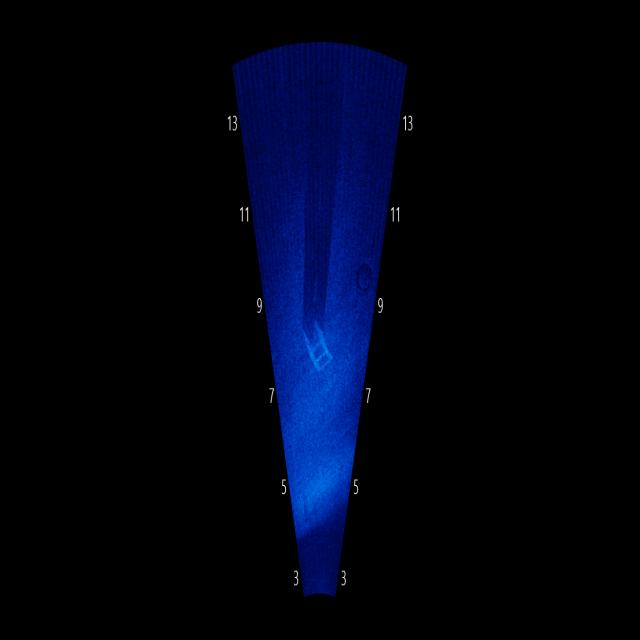square: (298, 308, 336, 385)
